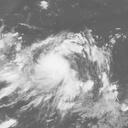cyclone: (36, 51, 70, 87)
